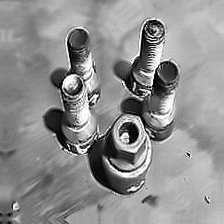tiny_holes: (8, 199, 26, 213), (200, 192, 214, 205), (182, 150, 194, 160)
